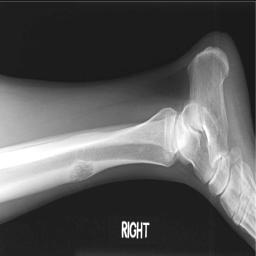cancer: (69, 160, 95, 181)
